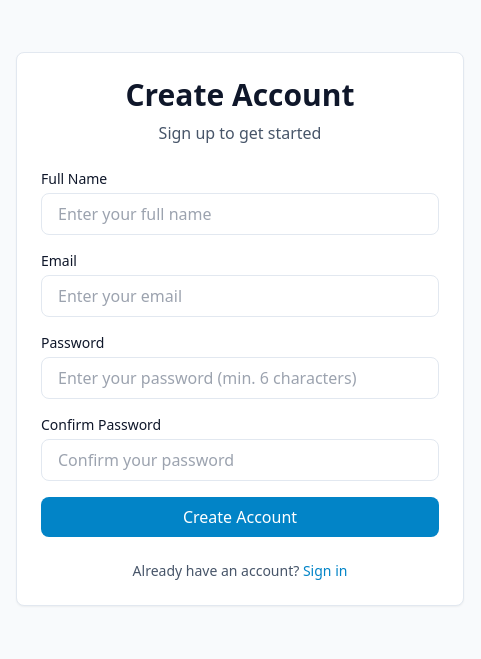
Test: Register › Form Validation › shows error for empty name
Click the button "Create Account" at [240, 517], box [41, 497, 439, 537]
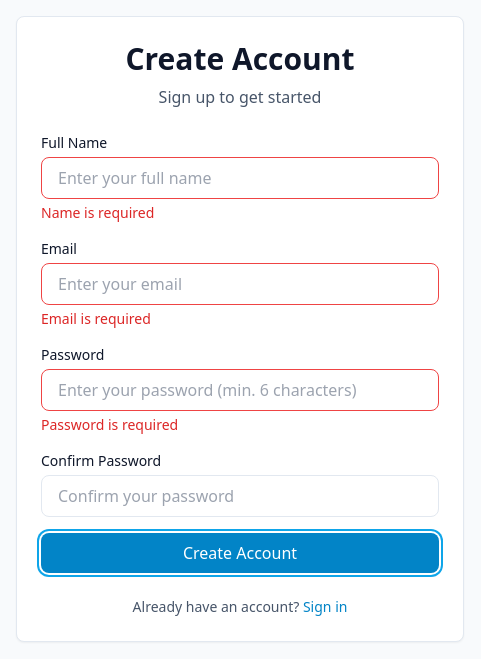
Expected: the text "Name is required" is shown, [41, 203, 154, 222]
